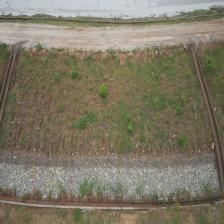rock_toe: (0, 154, 218, 202)
slope_drain: (190, 46, 224, 190), (0, 43, 22, 124)
